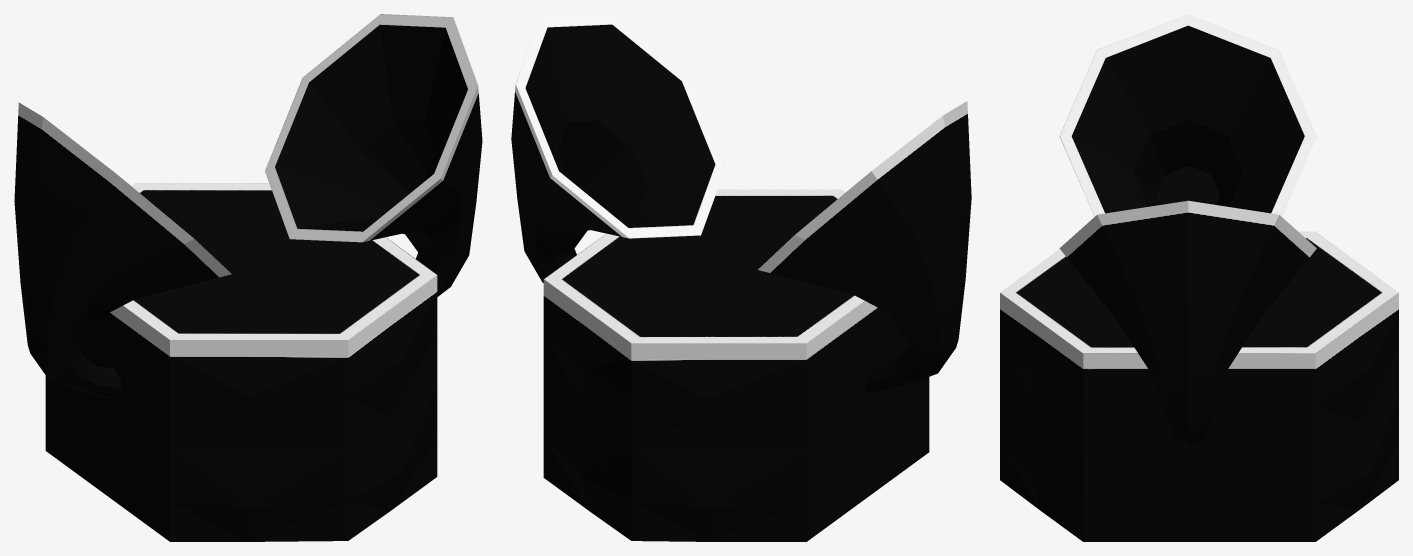
File: LaserTower3.fbx
3 views of the same model, side by side, from view 1: azimuth 30°, elevation 25°; view 2: azimuth 150°, elevation 25°; view 3: azimuth 270°, elevation 25° (orthographic). The views are drawn at different scales.
Visible parts, largest first — view 1: hexBase, hexTop, hexTop1; view 2: hexBase, hexTop, hexTop1; view 3: hexBase, hexTop1, hexTop.
Part boxes in pixels (x1,y1,x2,y2): hexBase: (45,183,437,541); hexTop: (265,14,482,296); hexTop1: (14,102,231,399); hexBase: (543,189,929,541); hexTop: (511,14,725,282); hexTop1: (758,101,971,393); hexBase: (1000,231,1398,541); hexTop1: (1059,14,1316,216); hexTop: (1059,200,1316,448).
Bounding box in the file's own units: 2.88 × 2.48 × 2.4.
